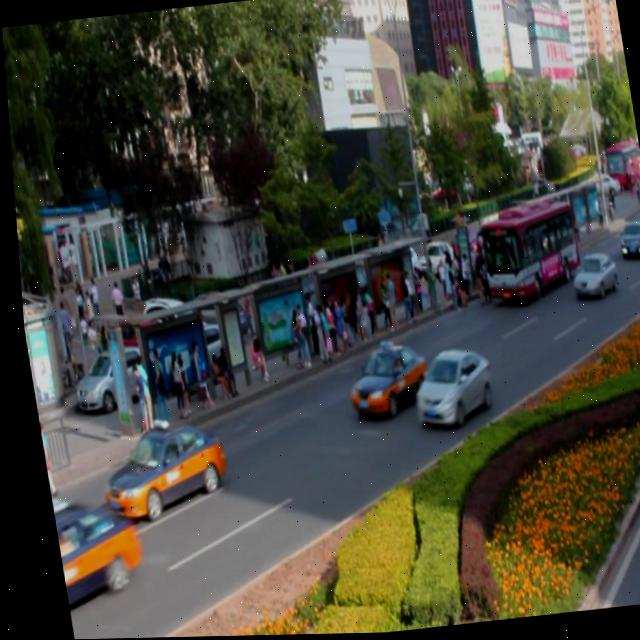car: (90, 416, 225, 519), (45, 497, 137, 610), (401, 344, 490, 428), (336, 338, 427, 420), (562, 248, 615, 300), (610, 217, 640, 260)
van: (466, 194, 578, 304)
